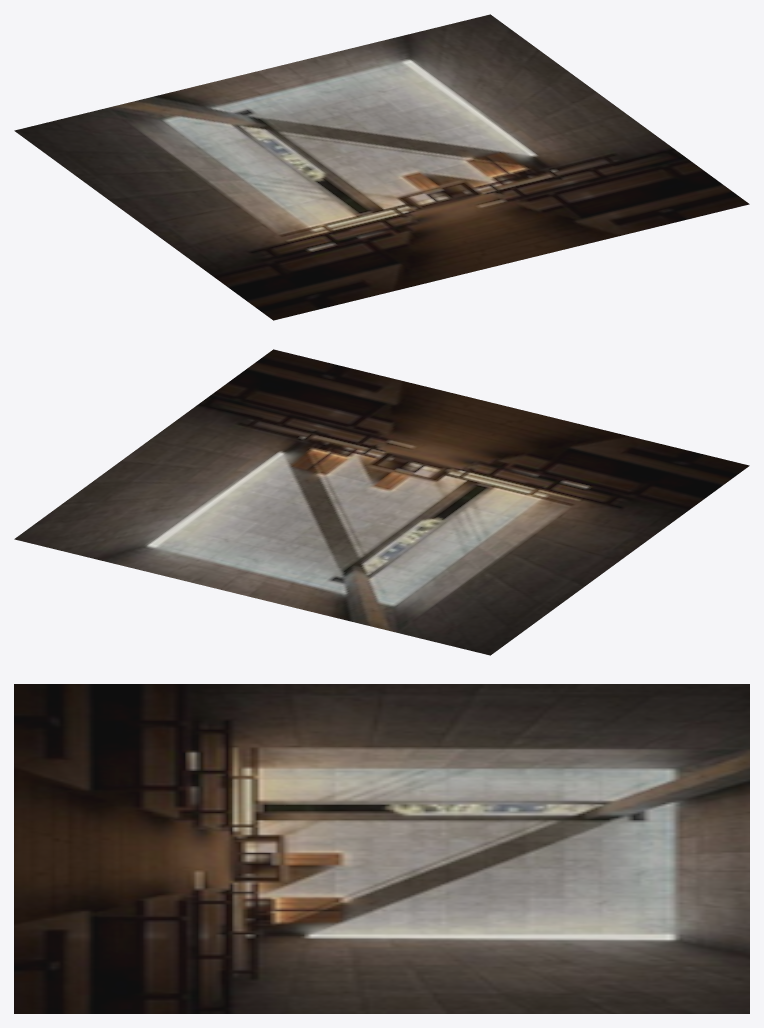
File: Poster11.fbx
3 views of the same model, one above another, from view 1: azimuth 30°, elevation 25°; view 2: azimuth 150°, elevation 25°; view 3: azimuth 270°, elevation 25° (orthographic). The views are drawn at different scales.
Visible parts, largest first — view 1: Poster11; view 2: Poster11; view 3: Poster11.
Part boxes in pixels (x1,y1,x2,y2): Poster11: (14, 14, 749, 320); Poster11: (14, 349, 749, 655); Poster11: (14, 684, 749, 1013).
Bounding box in the file's own units: 36.99 × 0 × 34.88.
Materials: 1 (1 with a texture image).
